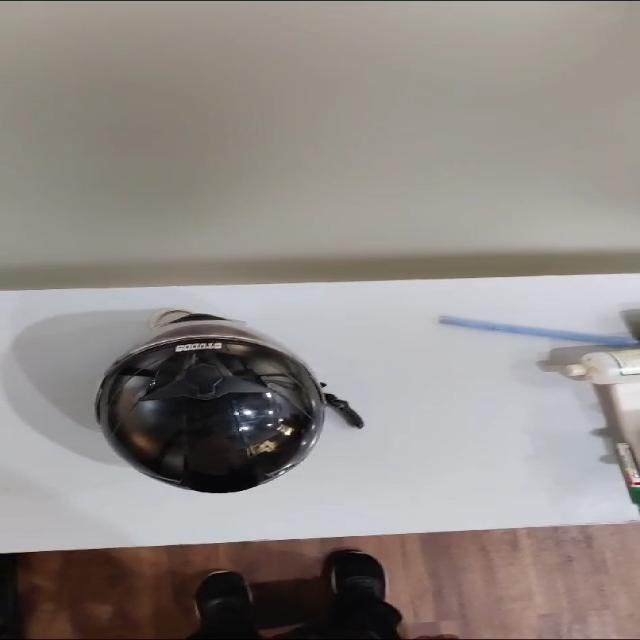helmet: (96, 310, 362, 493)
